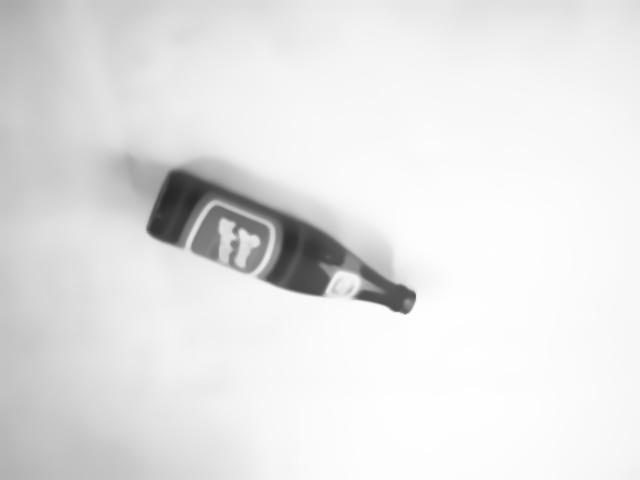Glass: (140, 164, 421, 316)
